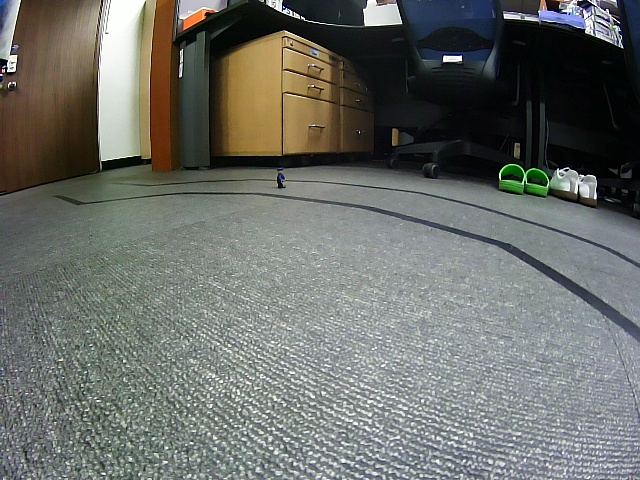person: (275, 166, 288, 188)
